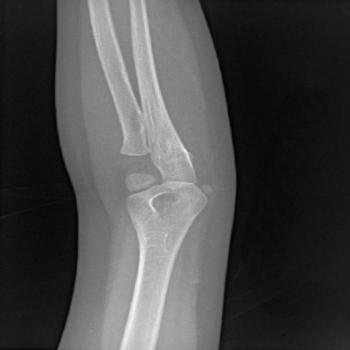Fracture: (114, 141, 157, 196)
